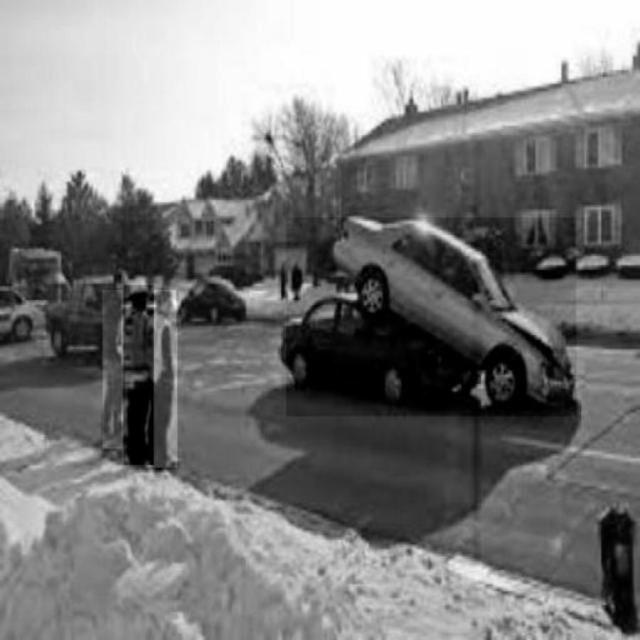accident: (286, 218, 576, 416)
person: (124, 285, 154, 465), (148, 290, 178, 468), (103, 290, 123, 448)
vehicle: (44, 274, 101, 352), (177, 273, 248, 328)
